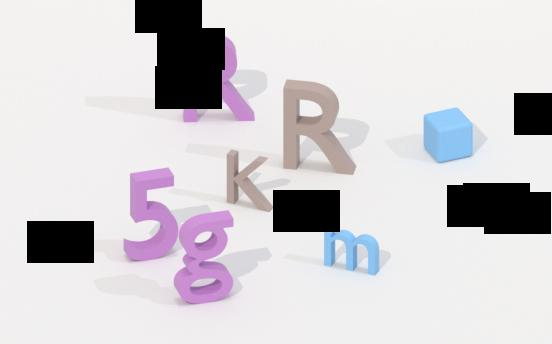5: (120, 163, 179, 263)
R-hoa: (281, 76, 361, 180), (180, 29, 257, 127)
g: (173, 206, 237, 307)
hop: (422, 104, 476, 164)
k: (223, 146, 273, 213)
m: (322, 225, 381, 279)
